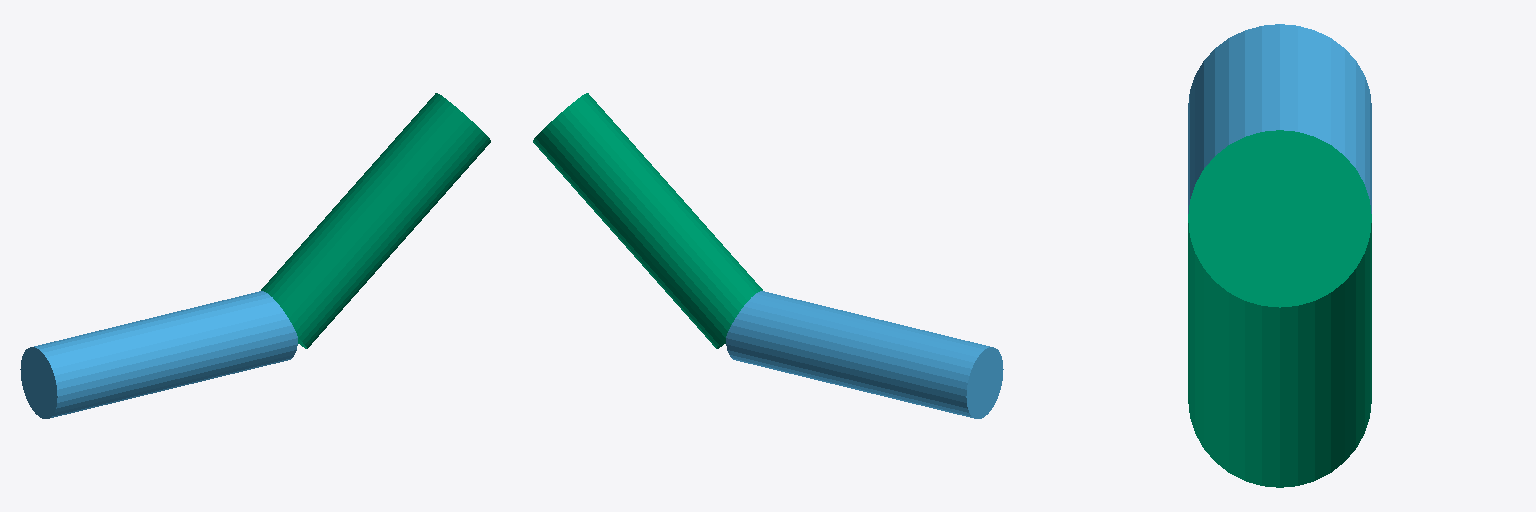
robot.urdf — basic:
<?xml version="1.0"?>
<robot name="basic">
<link name="world">
    <origin xyz="0 0 0" rpy="0 0 0"/>
  </link>

  <joint name="fixed"  type="fixed">
    <parent link="world"/>
    <child link="base_link"/>
  </joint>

  <link name="base_link">
    <visual>
      <geometry>
        <cylinder length="0.6" radius="0.08"/>
      </geometry>
      <origin rpy="0 1.57075 0" xyz="0 0 0"/>
      <material name="blue"/>
    </visual>
    <collision>
      <geometry>
        <cylinder length="0.6" radius="0.08"/>
      </geometry>
      <origin rpy="0 1.57075 0" xyz="0 0 0"/>
      <material name="blue"/>
    </collision>
    <inertial>
      <mass value="10"/>
      <inertia ixx="1.0" ixy="0.0" ixz="0.0" iyy="1.0" iyz="0.0" izz="1.0"/>
    </inertial>
  </link>

  <link name="link1">
    <visual>
      <geometry>
        <cylinder length="0.6" radius="0.08"/>
      </geometry>
      <origin rpy="0 1.57 0" xyz="0.3 0 0.0"/>
    </visual>
    <collision>
      <geometry>
        <cylinder length="0.6" radius="0.08"/>
      </geometry>
      <origin rpy="0 1.57 0" xyz="0.3 0 0"/>
      <material name="blue"/>
    </collision>
    <inertial>
      <mass value="10"/>
      <inertia ixx="1.0" ixy="0.0" ixz="0.0" iyy="1.0" iyz="0.0" izz="1.0"/>
    </inertial>
  </link>

  <joint name="base_to_link1" type="fixed">
    <origin xyz="0.3 0 0.0" rpy="0 -0.7 0"/>
    <parent link="base_link"/>
    <child link="link1"/>
  </joint>



</robot>

--- What the picture shows (computed from the rendered views, not written in the file) ---
3 views of the same robot in one strip: view 1: azimuth 30°, elevation 25°; view 2: azimuth 150°, elevation 25°; view 3: azimuth 270°, elevation 25° (orthographic).
Robot: basic — 3 links, 2 joints (2 fixed); root link world; default pose: all joints at 0.
Links seen in each view (by area): view 1: link1, base_link; view 2: link1, base_link; view 3: link1, base_link.
Boxes of the visible links, left/top/right/bottom form: link1: left=261, top=93, right=490, bottom=348; base_link: left=20, top=291, right=297, bottom=418; link1: left=533, top=93, right=762, bottom=348; base_link: left=726, top=291, right=1003, bottom=418; link1: left=1188, top=130, right=1371, bottom=487; base_link: left=1188, top=24, right=1371, bottom=213.
Size in the robot's own frame: 1.11 by 0.16 by 0.5279 metres.
Geometry: primitives only (box / cylinder / sphere), no mesh files.